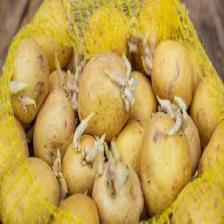Sprouted potato: (139, 113, 194, 215), (76, 55, 133, 139), (28, 82, 79, 172), (7, 34, 50, 124), (149, 35, 196, 117), (56, 128, 106, 200)
